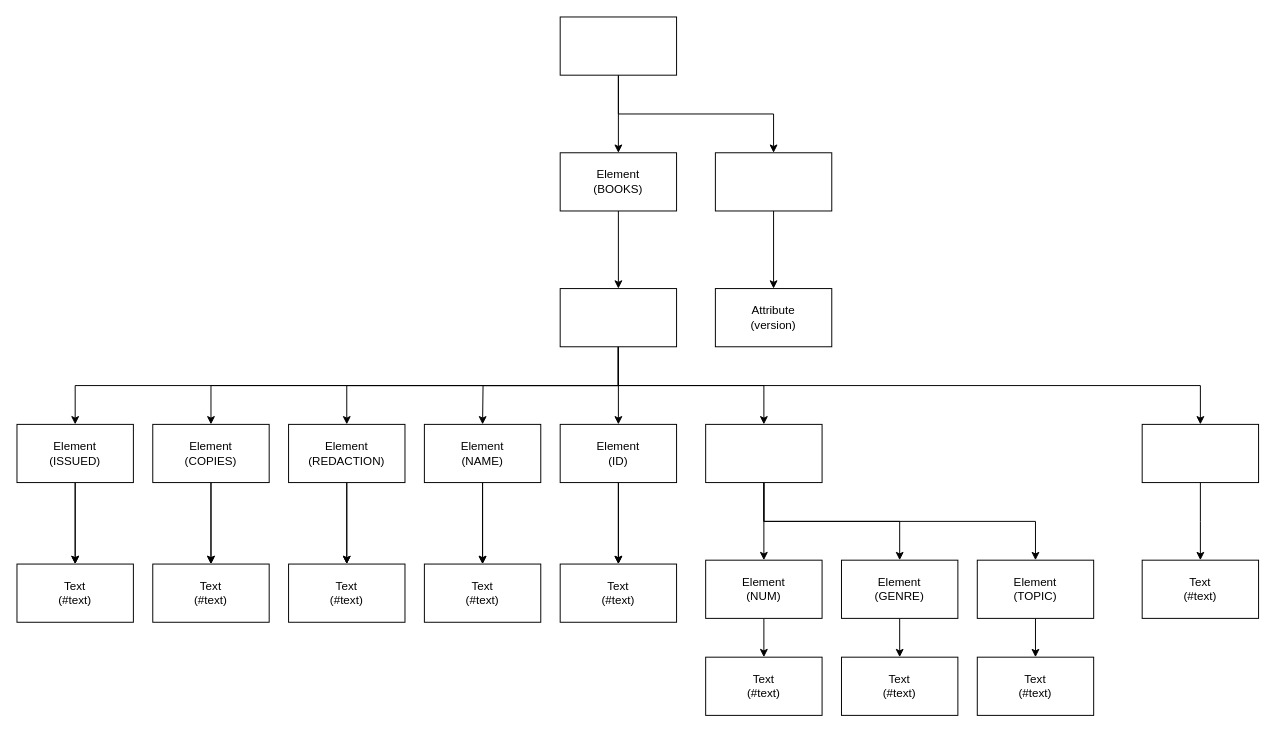
Image size: 1276x732. Some labels were removed from this diagram. Each missing label, with the box of its shape:
Document (#document): (559, 16, 677, 75)
Element (AUTHOR): (1141, 423, 1259, 483)
Element (BOOK): (559, 288, 677, 347)
Element (RACK): (705, 423, 822, 483)
ProcessingInstruction (xml): (714, 152, 832, 211)
